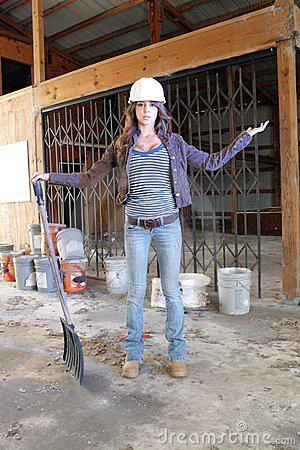helmet: (123, 74, 170, 127)
